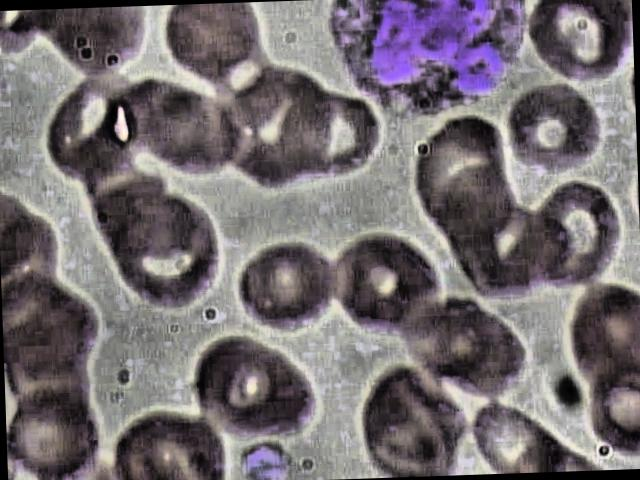Platelets: (239, 435, 289, 480)
RBC: (186, 324, 326, 445), (106, 198, 228, 318), (406, 113, 517, 241), (354, 364, 466, 478), (327, 229, 442, 337), (523, 178, 626, 298), (268, 87, 387, 188), (226, 239, 342, 342), (500, 77, 609, 183), (563, 280, 640, 400), (525, 0, 632, 86), (156, 2, 262, 84), (6, 395, 103, 480)
WBC: (320, 0, 536, 124)
